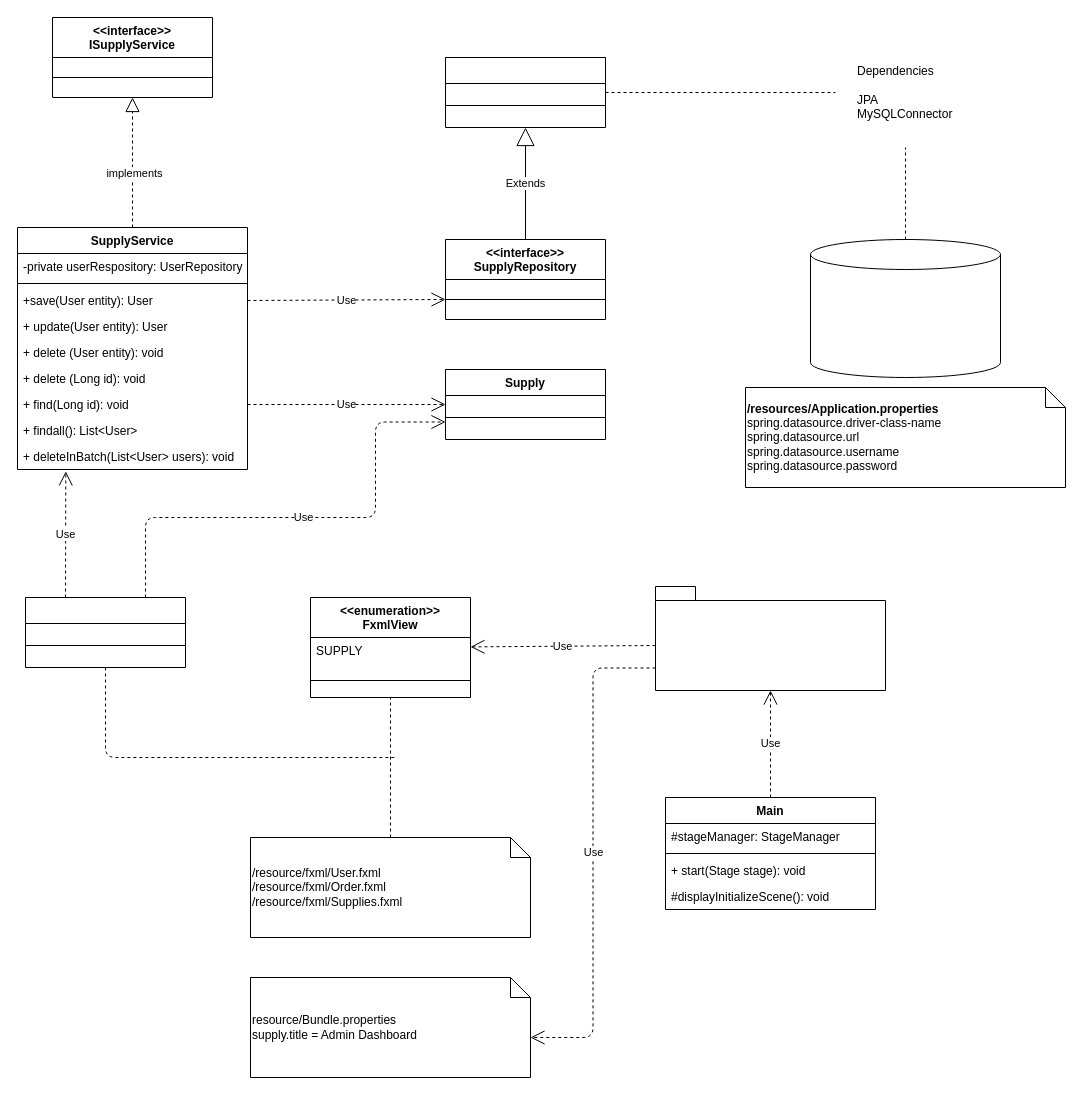
Some shapes in this 1083 by 1095 pixel diagram are drawn without their labels. Here are the shapes that lost their labels. From the top down, the centre of each, then its label:
At (x=525, y=92): "JpaRepository".
At (x=905, y=308): "database: shventurecapital table: user table: supplt".
At (x=105, y=632): "SupplyController".
At (x=770, y=638): "com.shventurecapital.bebtea. config".
